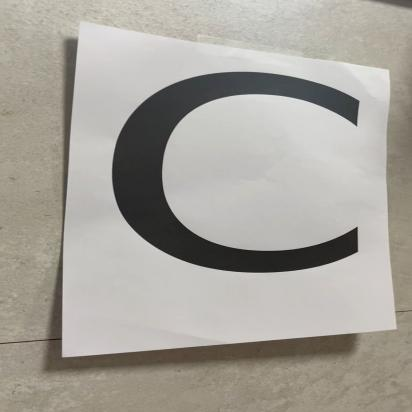seat: (75, 16, 387, 337)
